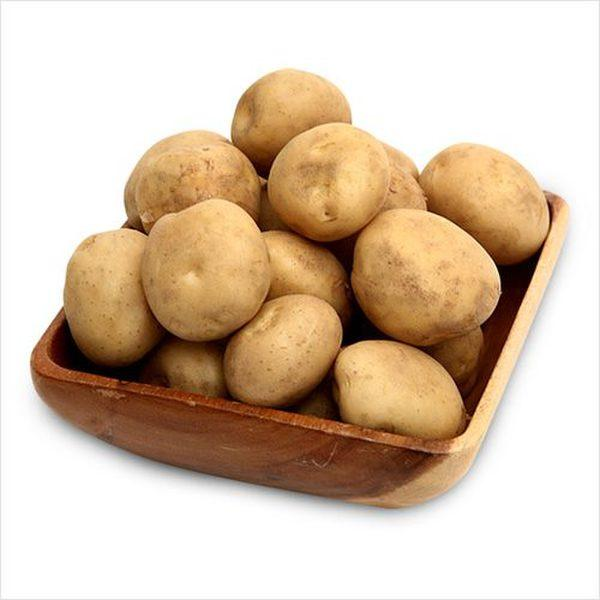potato: (341, 205, 468, 318), (141, 197, 252, 323), (254, 113, 367, 223), (313, 319, 439, 409), (218, 278, 328, 381)
